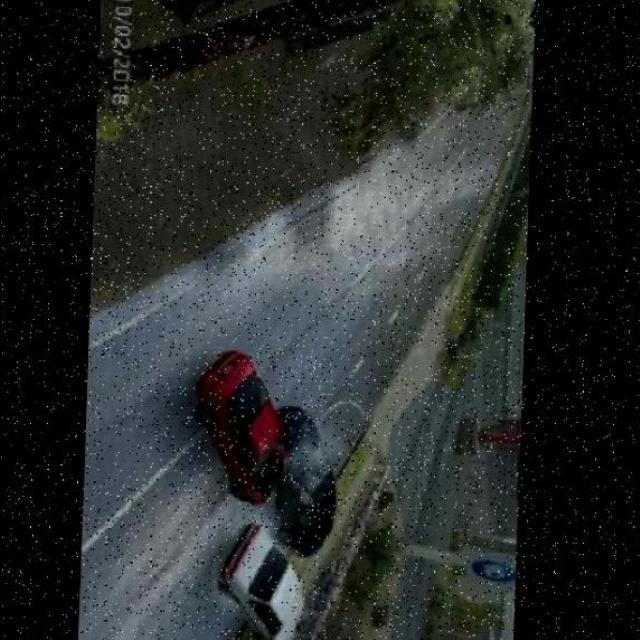accident: (197, 341, 331, 547)
